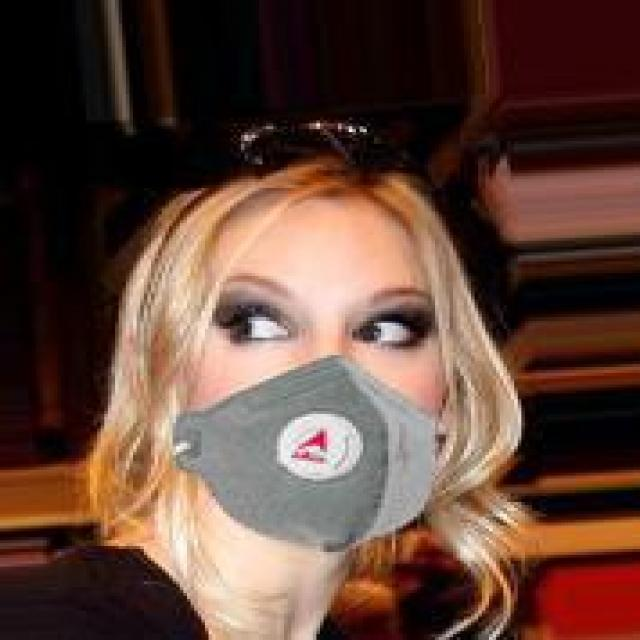mask: (119, 147, 536, 581)
